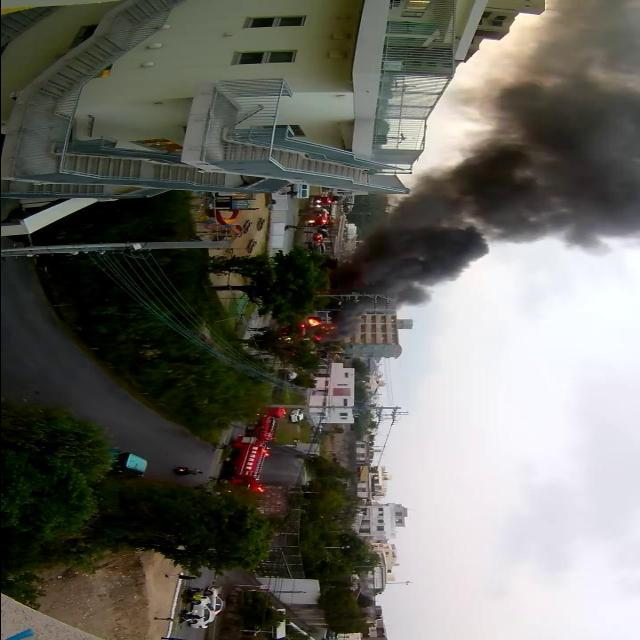Fire: (308, 318, 320, 328)
